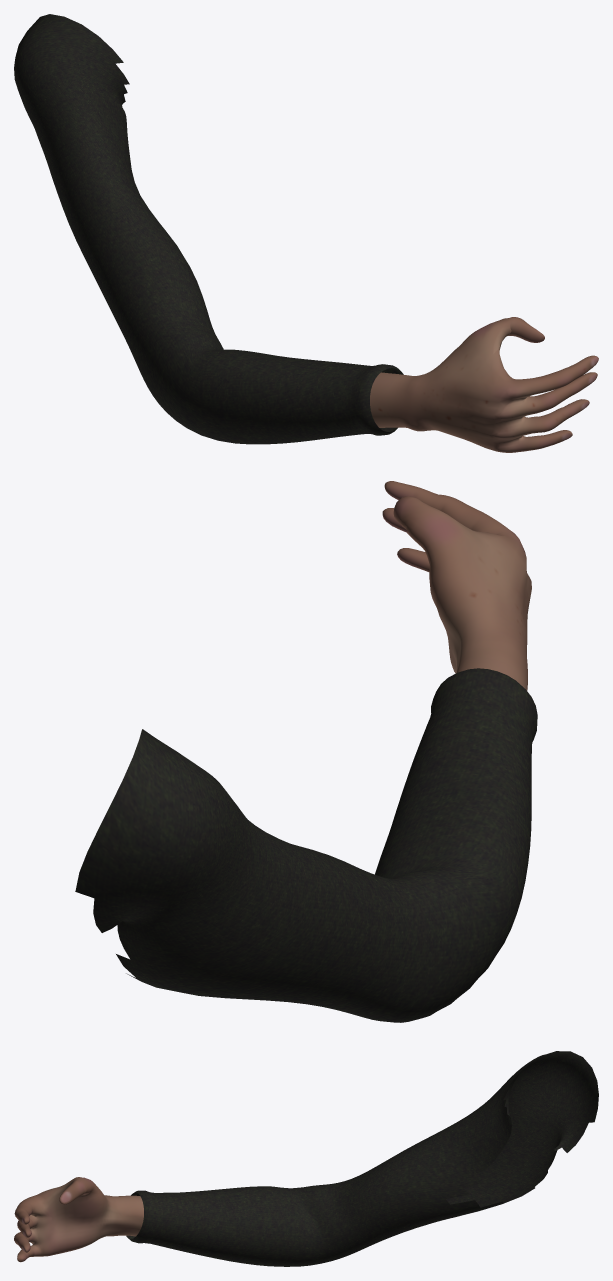
Rendered from C_Selene_Arm.fbx.
The picture shows the model from 3 angles, top to bottom: view 1: azimuth 30°, elevation 25°; view 2: azimuth 150°, elevation 25°; view 3: azimuth 270°, elevation 25°; orthographic projection. The views are drawn at different scales.
Parts seen in each view (by area): view 1: C_Selene_Arm; view 2: C_Selene_Arm; view 3: C_Selene_Arm.
Boxes of the visible parts, bbox=[...] form: C_Selene_Arm: bbox=[14, 14, 598, 452]; C_Selene_Arm: bbox=[75, 481, 537, 1022]; C_Selene_Arm: bbox=[14, 1051, 598, 1266].
Size of the model in its own units: 2.53 by 2.8 by 6.76.
Materials: 2 (2 with a texture image).
